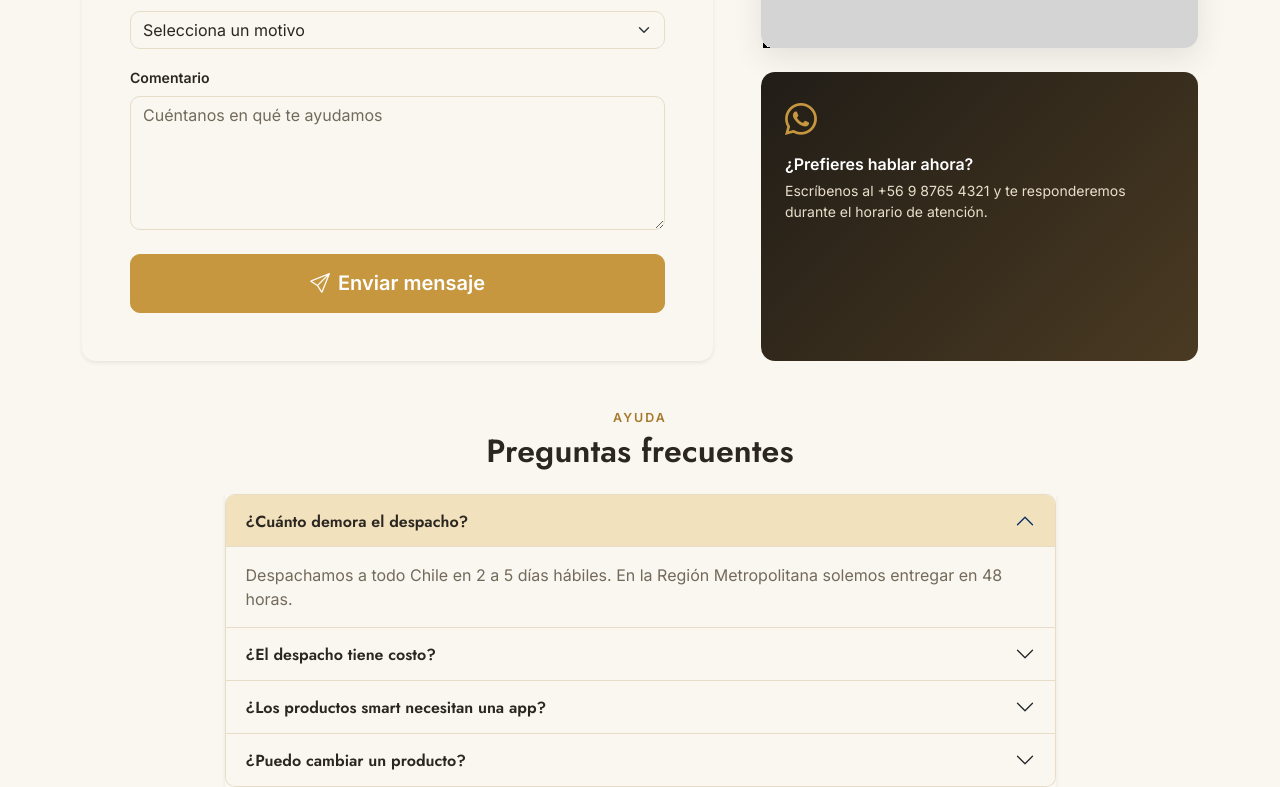
Formulario de Contacto › abre una sola pregunta frecuente a la vez en el acordeón
(page scrolled)
Step 1. Click the button "¿Puedo cambiar un producto?" → click(356, 760), box x1=226 y1=734 x2=1054 y2=786
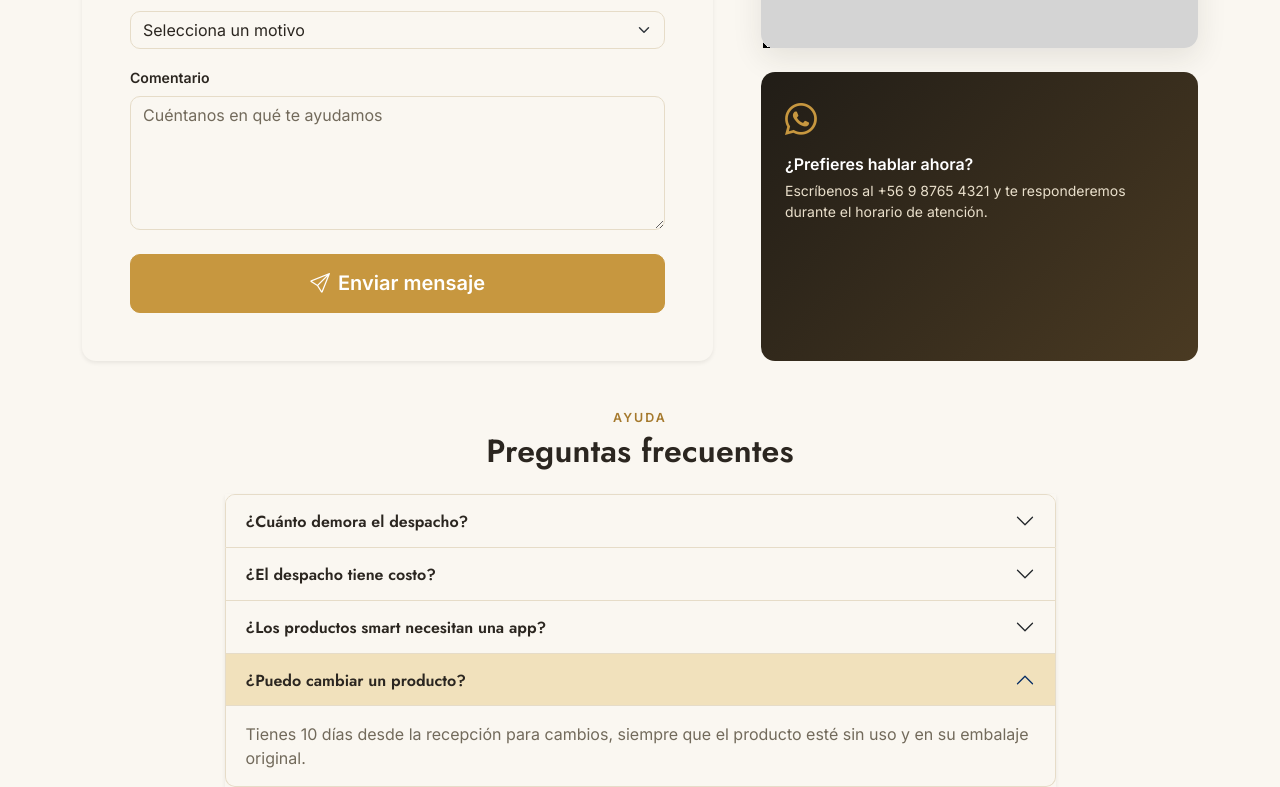
expect the button "¿Cuánto demora el despacho?" is collapsed: met, box x1=226 y1=495 x2=1054 y2=547
expect the button "¿Puedo cambiar un producto?" is expanded: met, box x1=226 y1=654 x2=1054 y2=706
